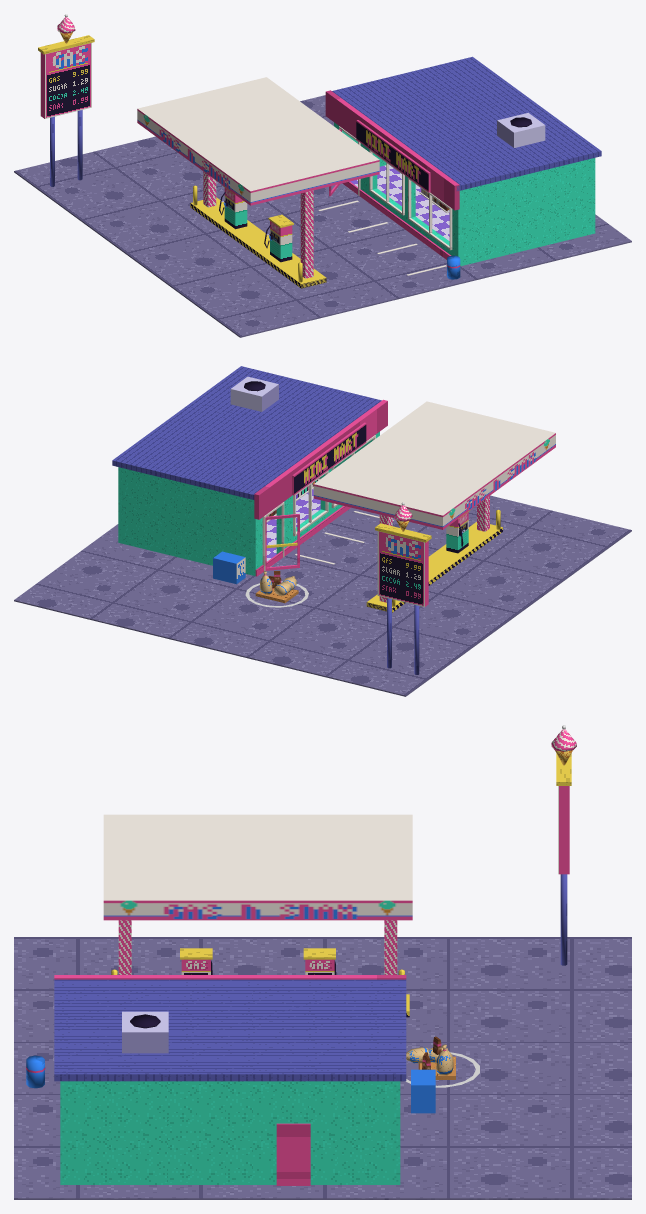
Rendered from Gas Station Stop.fbx.
3 views of the same model, one above another, from view 1: azimuth 30°, elevation 25°; view 2: azimuth 150°, elevation 25°; view 3: azimuth 270°, elevation 25° (orthographic). The views are drawn at different scales.
Visible parts, largest first — view 1: Gas Station Stop ground, Gas Station Stop canopy, Gas Station Stop mart roof, Gas Station Stop mart side S, Gas Station Stop pylon sign, Gas Station Stop mart fascia, Gas Station Stop pump island, Gas Station Stop mart sign, Gas Station Stop mart floor, Gas Station Stop canopy column, Gas Station Stop ac unit, Gas Station Stop mart kick (+4 smaller); view 2: Gas Station Stop ground, Gas Station Stop canopy, Gas Station Stop mart roof, Gas Station Stop mart side N, Gas Station Stop pylon sign, Gas Station Stop mart fascia, Gas Station Stop pump island, Gas Station Stop mart sign, Gas Station Stop ac unit, Gas Station Stop ice chest, Gas Station Stop mart floor, Gas Station Stop pump A body (+4 smaller); view 3: Gas Station Stop ground, Gas Station Stop mart roof, Gas Station Stop mart back, Gas Station Stop canopy, Gas Station Stop back door, Gas Station Stop mart fascia, Gas Station Stop ac unit, Gas Station Stop ice chest, Gas Station Stop pylon sign, Gas Station Stop canopy column, Gas Station Stop canopy column.001, Gas Station Stop pylon pole.001.
Part boxes in pixels (x1=…): Gas Station Stop ground: x1=14, y1=95, x2=631, y2=337; Gas Station Stop canopy: x1=137, y1=77, x2=379, y2=205; Gas Station Stop mart roof: x1=332, y1=56, x2=601, y2=190; Gas Station Stop mart side S: x1=455, y1=158, x2=595, y2=265; Gas Station Stop pylon sign: x1=40, y1=43, x2=91, y2=118; Gas Station Stop mart fascia: x1=325, y1=90, x2=459, y2=210; Gas Station Stop pump island: x1=190, y1=197, x2=326, y2=288; Gas Station Stop mart sign: x1=356, y1=120, x2=430, y2=192; Gas Station Stop mart floor: x1=350, y1=165, x2=449, y2=240; Gas Station Stop canopy column: x1=300, y1=190, x2=313, y2=278; Gas Station Stop ac unit: x1=497, y1=112, x2=545, y2=147; Gas Station Stop mart kick: x1=342, y1=181, x2=451, y2=259; Gas Station Stop ground: x1=14, y1=495, x2=631, y2=696; Gas Station Stop canopy: x1=313, y1=401, x2=555, y2=529; Gas Station Stop mart roof: x1=112, y1=366, x2=381, y2=499; Gas Station Stop mart side N: x1=118, y1=467, x2=258, y2=575; Gas Station Stop pylon sign: x1=377, y1=531, x2=428, y2=607; Gas Station Stop mart fascia: x1=254, y1=399, x2=387, y2=519; Gas Station Stop pump island: x1=366, y1=522, x2=502, y2=612; Gas Station Stop mart sign: x1=292, y1=422, x2=366, y2=495; Gas Station Stop ac unit: x1=230, y1=376, x2=278, y2=411; Gas Station Stop ice chest: x1=213, y1=551, x2=245, y2=584; Gas Station Stop mart floor: x1=266, y1=489, x2=320, y2=561; Gas Station Stop pump A body: x1=446, y1=512, x2=468, y2=553; Gas Station Stop ground: x1=14, y1=937, x2=631, y2=1199; Gas Station Stop mart roof: x1=54, y1=979, x2=406, y2=1081; Gas Station Stop mart back: x1=60, y1=1081, x2=400, y2=1184; Gas Station Stop canopy: x1=103, y1=814, x2=412, y2=920; Gas Station Stop back door: x1=276, y1=1123, x2=310, y2=1185; Gas Station Stop mart fascia: x1=54, y1=975, x2=406, y2=979; Gas Station Stop ac unit: x1=122, y1=1011, x2=168, y2=1053; Gas Station Stop ice chest: x1=411, y1=1069, x2=435, y2=1113; Gas Station Stop pylon sign: x1=558, y1=786, x2=569, y2=874; Gas Station Stop canopy column: x1=118, y1=920, x2=131, y2=974; Gas Station Stop canopy column.001: x1=384, y1=920, x2=397, y2=974; Gas Station Stop pylon pole.001: x1=560, y1=874, x2=567, y2=965.
Bounding box in the file's own units: 20 × 8.3 × 20.
38 materials, 36 textured.
